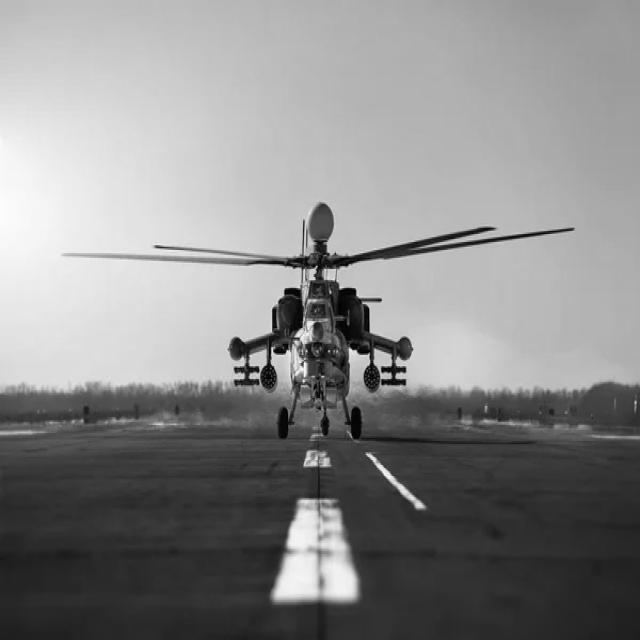Helicopter: (63, 202, 575, 440)
